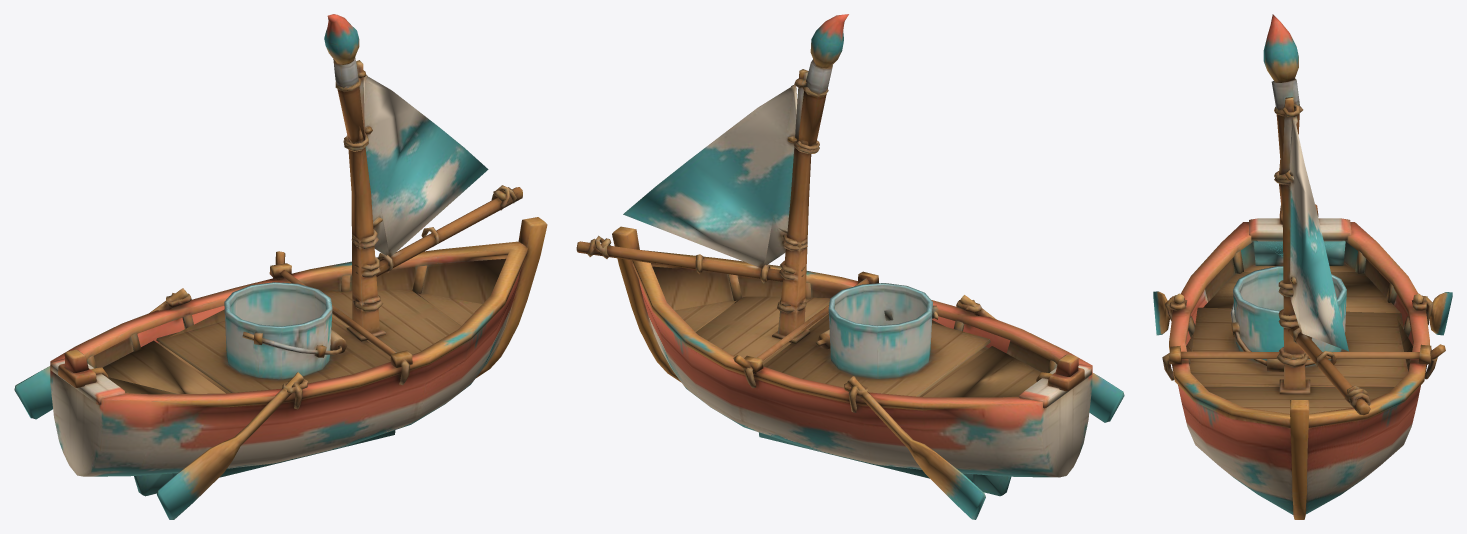
File: 238686e4-paint-skiff-web.glb
3 views of the same model, side by side, from view 1: azimuth 30°, elevation 25°; view 2: azimuth 150°, elevation 25°; view 3: azimuth 270°, elevation 25° (orthographic). The views are drawn at different scales.
Parts seen in each view (by area): view 1: tripo_node_18841c14-14de-4acb-8948-3bfd6de0b3a7; view 2: tripo_node_18841c14-14de-4acb-8948-3bfd6de0b3a7; view 3: tripo_node_18841c14-14de-4acb-8948-3bfd6de0b3a7.
Part boxes in pixels (bbox=[...]): tripo_node_18841c14-14de-4acb-8948-3bfd6de0b3a7: bbox=[14, 14, 547, 519]; tripo_node_18841c14-14de-4acb-8948-3bfd6de0b3a7: bbox=[576, 14, 1124, 519]; tripo_node_18841c14-14de-4acb-8948-3bfd6de0b3a7: bbox=[1153, 14, 1452, 519].
Size of the model in its own units: 0.998 by 0.877 by 0.5137.
1 material, 1 textured.
